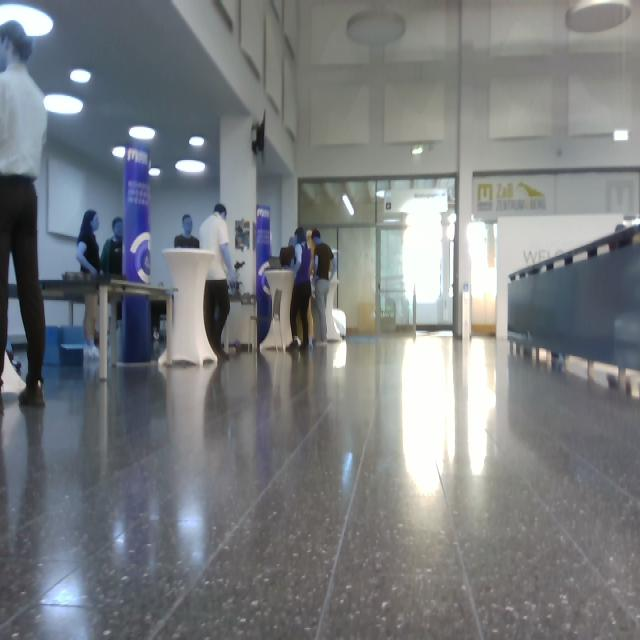door: (338, 225, 377, 336), (378, 226, 410, 333)
light bulb: (347, 10, 406, 48), (566, 1, 632, 34), (1, 4, 54, 38), (44, 93, 84, 116), (175, 159, 206, 175), (129, 125, 156, 141), (70, 69, 92, 84), (342, 193, 355, 216), (613, 129, 629, 142), (189, 136, 205, 148), (112, 147, 126, 159), (149, 166, 161, 177), (412, 145, 423, 156)
person: (1, 20, 49, 408), (200, 204, 238, 360), (76, 209, 103, 358), (288, 227, 314, 351), (100, 217, 124, 341), (310, 229, 335, 345), (174, 214, 200, 249)
pillar: (119, 141, 153, 365)
staircase: (506, 221, 639, 398)
tiled floor: (1, 331, 639, 639)
